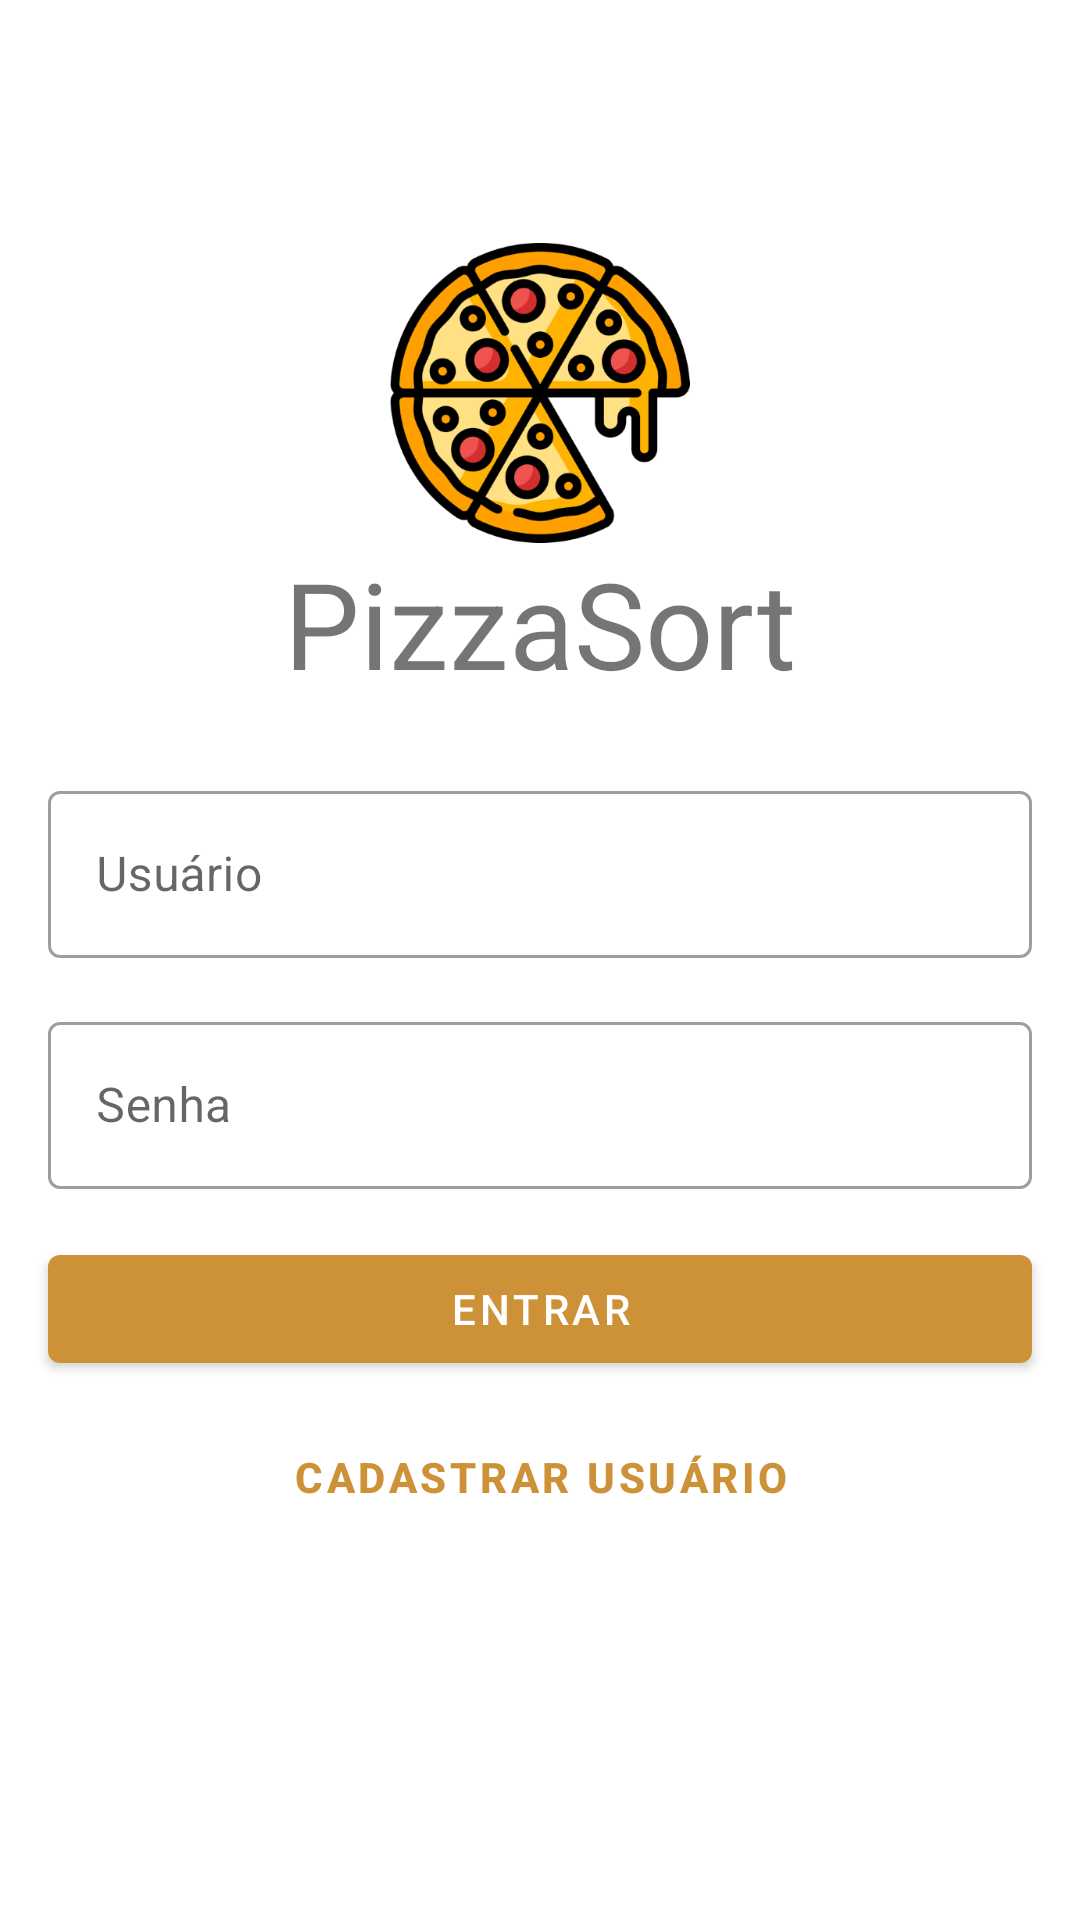

Screen size 1080 × 1920. Icon name, then its center in pixels as [x,y]:
pizza login: [540,393]
